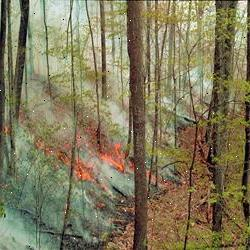fire: (50, 129, 132, 197)
